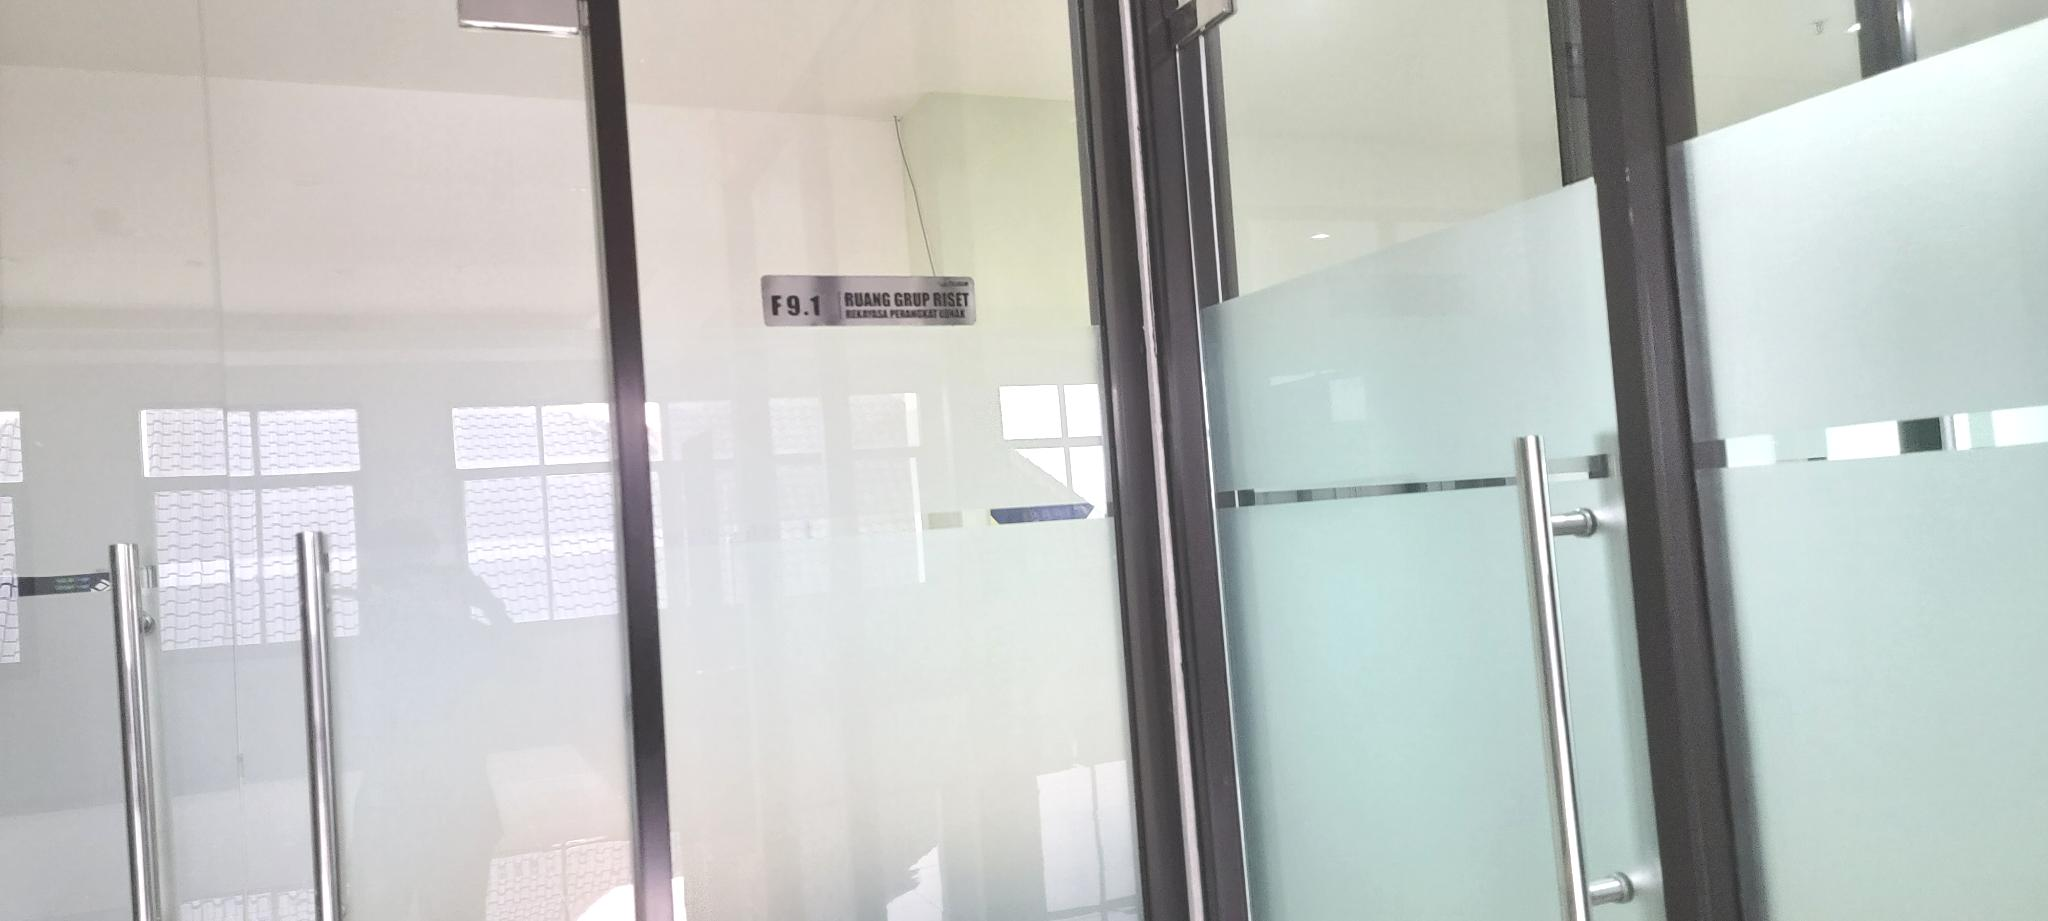plate: (759, 274, 980, 328)
